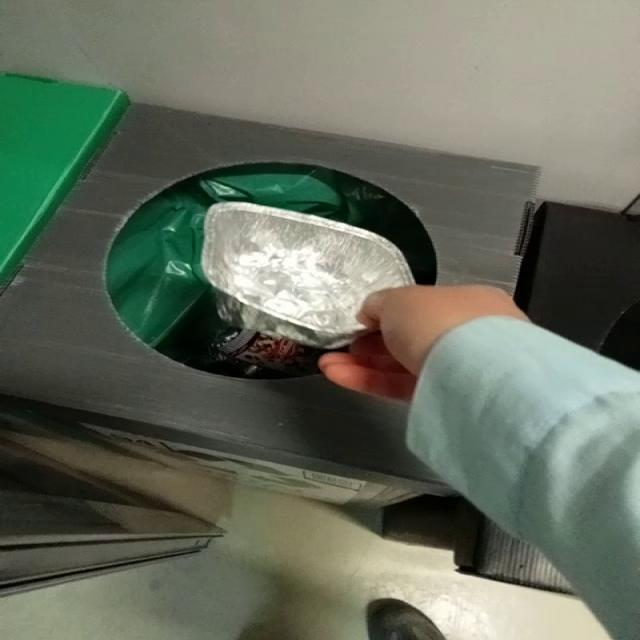Bin: (1, 104, 539, 500)
Metal: (201, 202, 415, 348)
